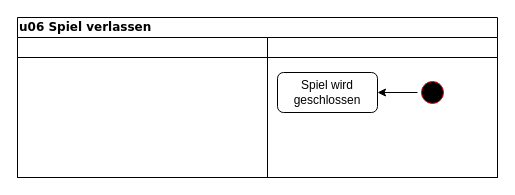
This 515x195 diagram has some shape labels left out. The shapes that lost their labels are listed below. From the top down, each one's box as (x1, y1, x2, y2) in pixels, then its label:
(16, 36, 268, 178): Anwender
(266, 36, 498, 178): System
